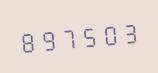eight: (17, 25, 36, 56)
five: (78, 20, 97, 51)
nine: (37, 23, 56, 54)
seven: (58, 21, 77, 53)
three: (118, 16, 137, 47)
zero: (98, 18, 117, 49)
